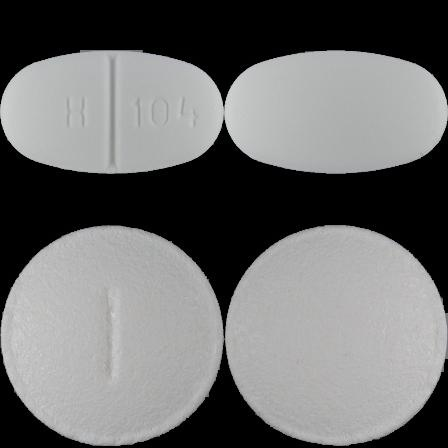63187-102: (0, 0, 224, 224)
